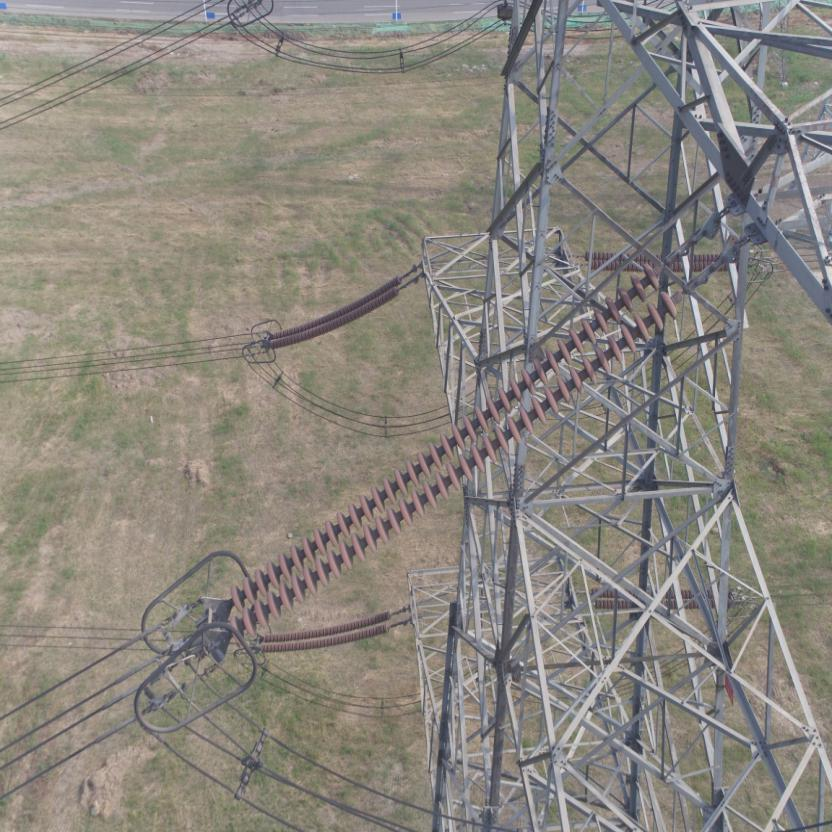insulator: (223, 262, 685, 648), (262, 272, 408, 350), (255, 605, 399, 655)
